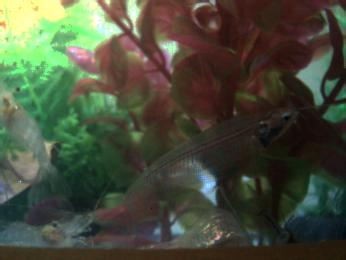glassfish: (88, 110, 298, 235)
siberian prawn: (1, 82, 76, 211), (1, 212, 94, 250)
